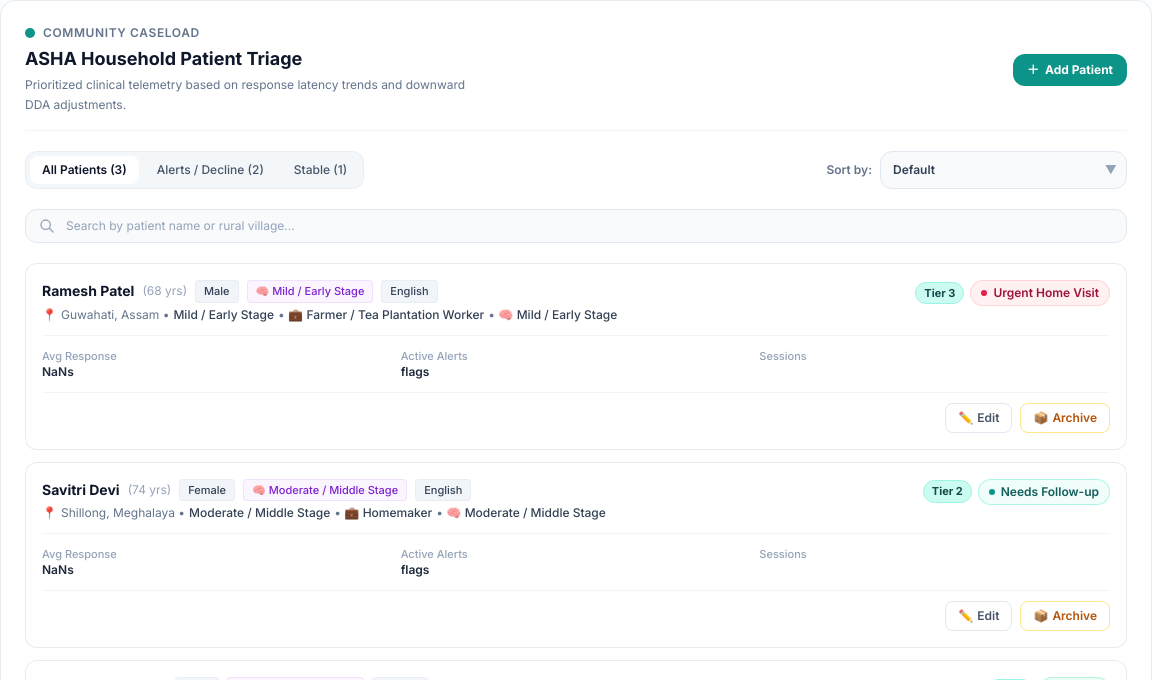
Test: Form Defaults & Expanded NER Occupation / Life Background Suite › 3. PatientTriageList: Add & Edit Form Defaults & Occupation › Add Patient form starts with empty defaults and prompt options
Click the button "＋ Add Patient": (1070, 70) x1=1013 y1=54 x2=1127 y2=86
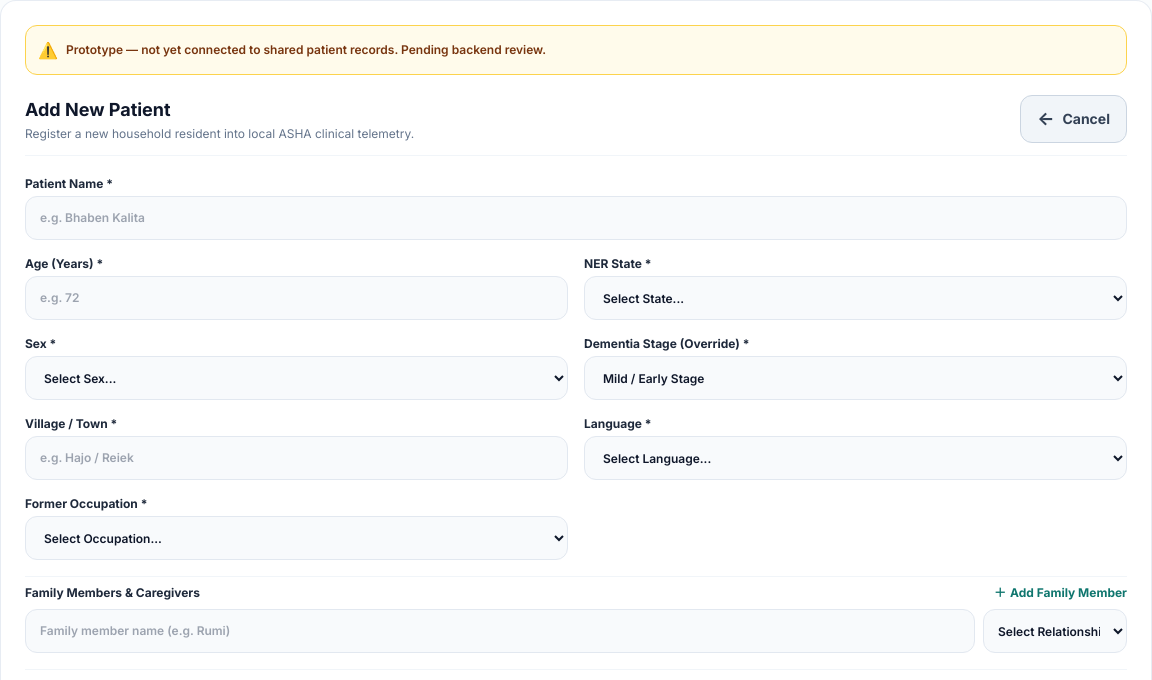
Expected: the dropdown labelled "NER State *" shows "Select State...", x1=584 y1=276 x2=1127 y2=320
Expected: the dropdown labelled "Language *" shows "Select Language...", x1=584 y1=436 x2=1127 y2=480
Expected: the dropdown labelled "Former Occupation *" shows "Select Occupation...", x1=25 y1=516 x2=568 y2=560
